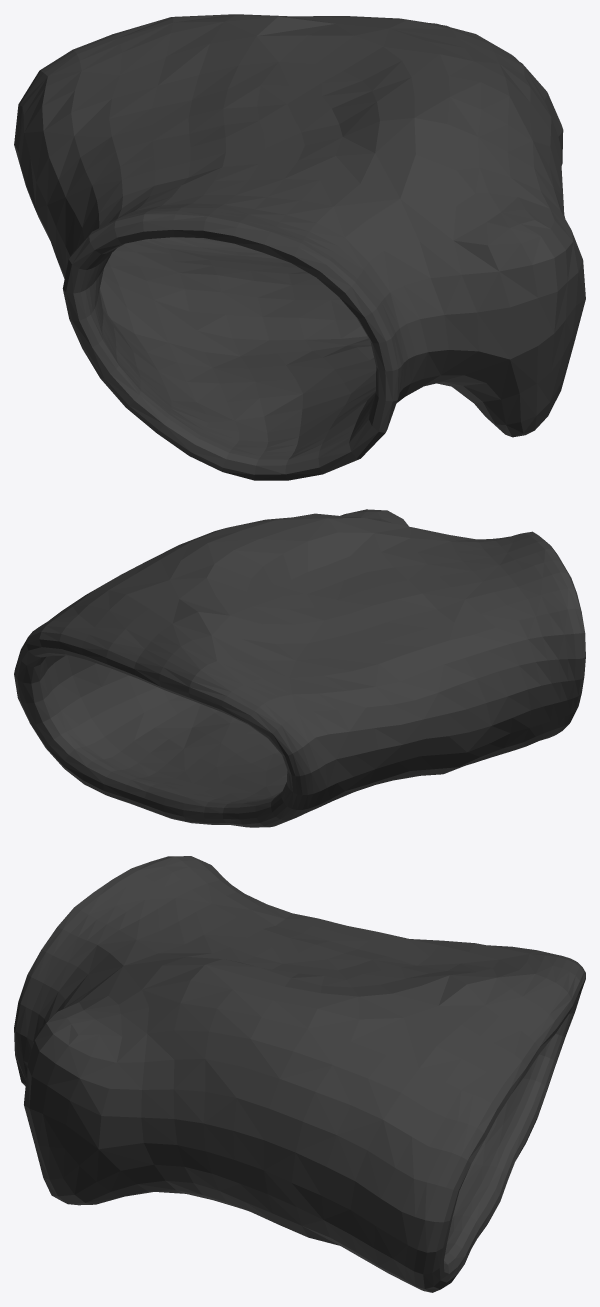
Rendered from CANAL_entrance_facial_n_L.glb.
3 renders of one model, top to bottom at view 1: azimuth 30°, elevation 25°; view 2: azimuth 150°, elevation 25°; view 3: azimuth 270°, elevation 25°, orthographic. The views are drawn at different scales.
Parts seen in each view (by area): view 1: CANAL_entrance_facial_n_L; view 2: CANAL_entrance_facial_n_L; view 3: CANAL_entrance_facial_n_L.
Part boxes in pixels (x1,y1,x2,y2): CANAL_entrance_facial_n_L: (14,14,585,480); CANAL_entrance_facial_n_L: (14,509,585,827); CANAL_entrance_facial_n_L: (14,856,585,1292).
Bounding box in the file's own units: 0.9832 × 0.4487 × 0.9198.
1 material, 1 textured.
